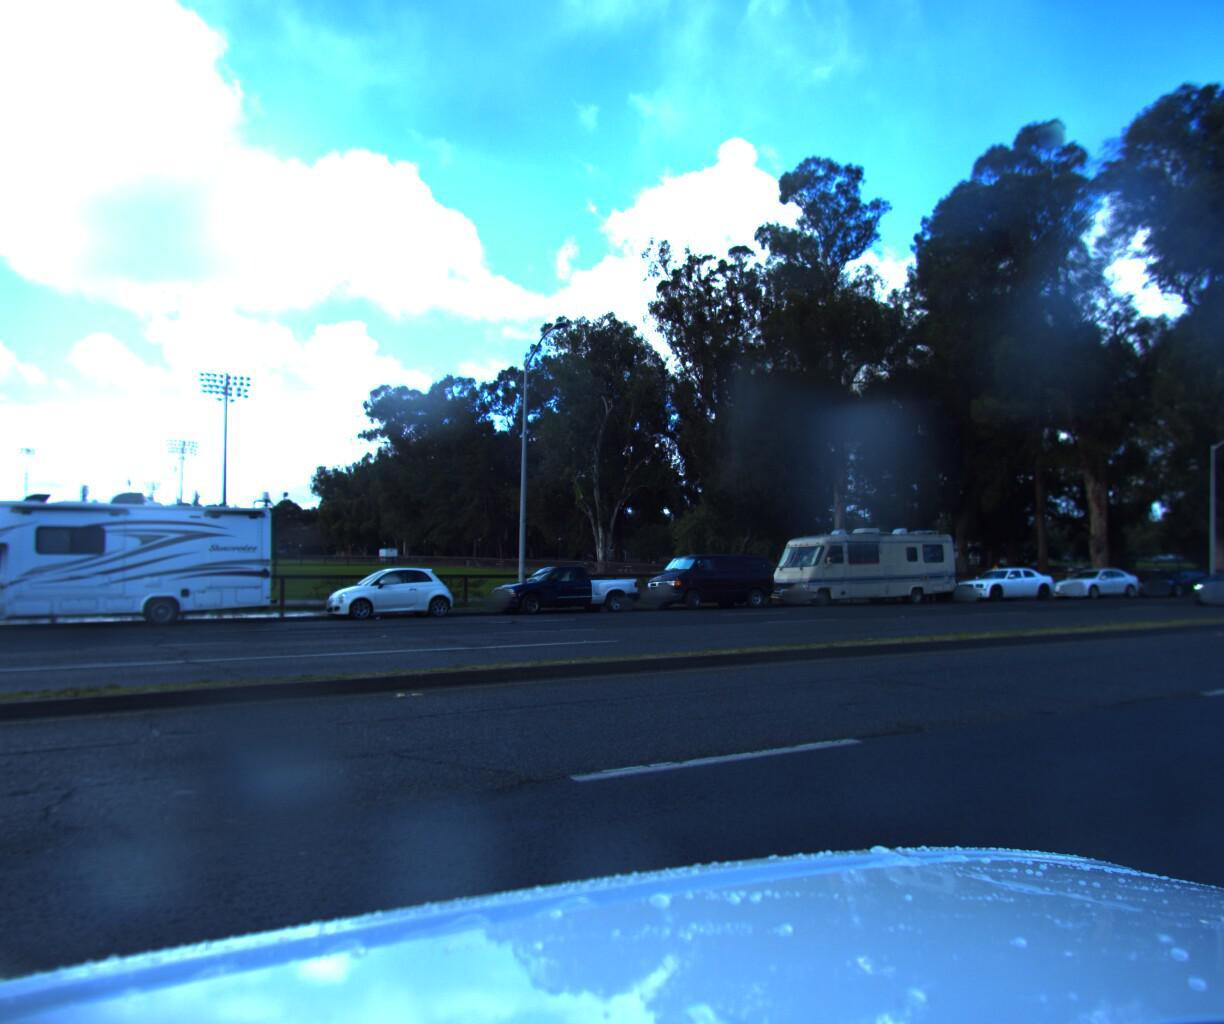car: (482, 568, 645, 617), (638, 555, 778, 607), (319, 570, 460, 617), (938, 571, 1053, 606), (1116, 570, 1216, 604), (1031, 569, 1135, 601), (1176, 563, 1224, 610)
other_vehicle: (754, 528, 958, 610)
